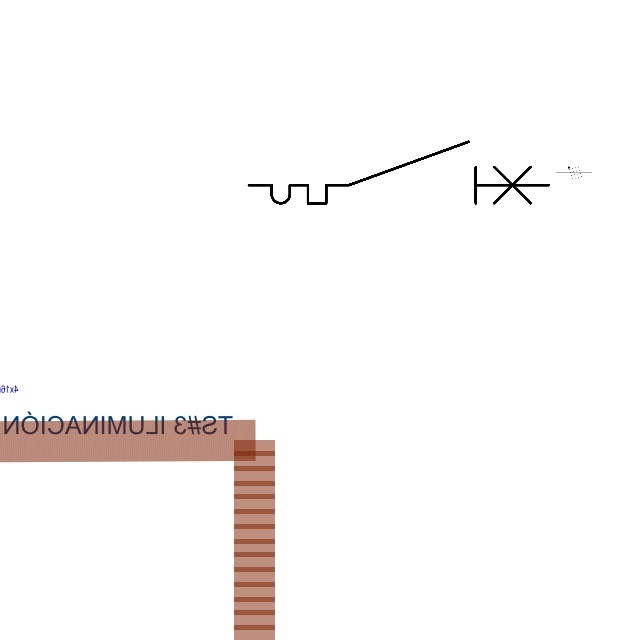interruptor_termomagnetico: (241, 134, 556, 211)
